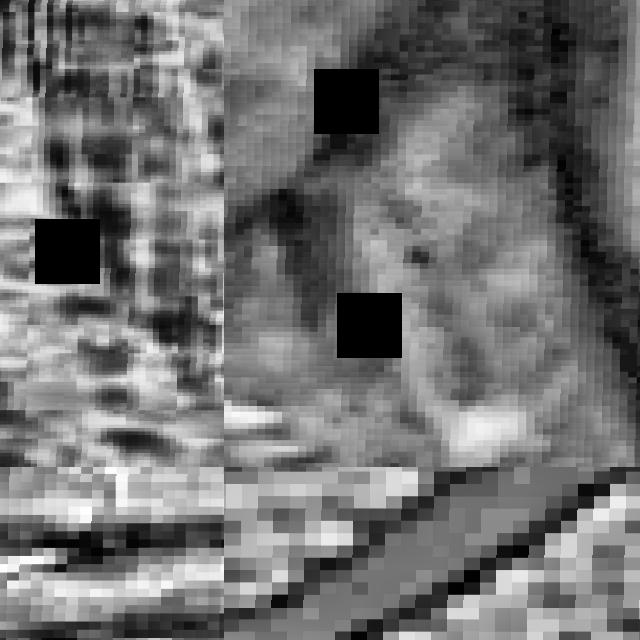crab: (0, 467, 224, 640)
fish: (224, 0, 640, 467), (0, 0, 224, 467), (224, 467, 640, 640)
